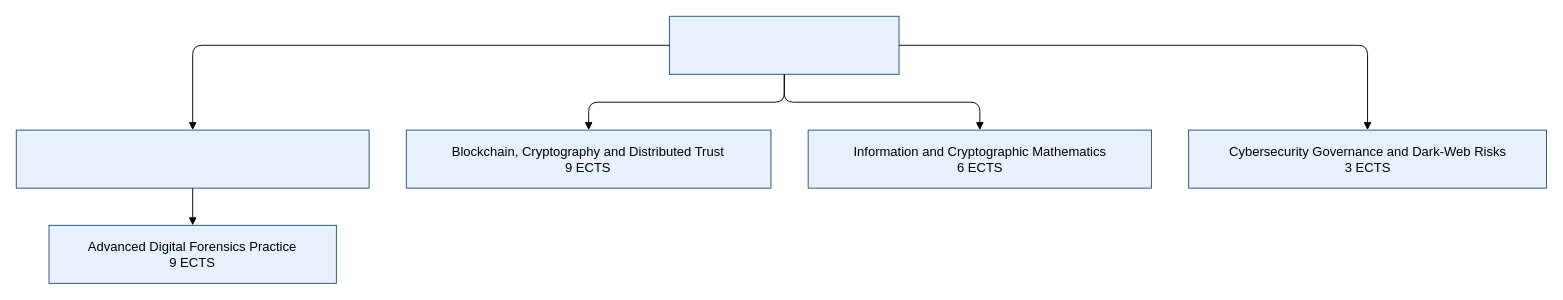
Some shapes in this 1563 by 300 pixel diagram are drawn without their labels. Each missing label, with the box of its shape:
Advanced Cybersecurity and Digital Forensics 12 ECTS: (15, 129, 369, 188)
Cybersecurity Foundations 12 ECTS: (668, 15, 899, 74)
